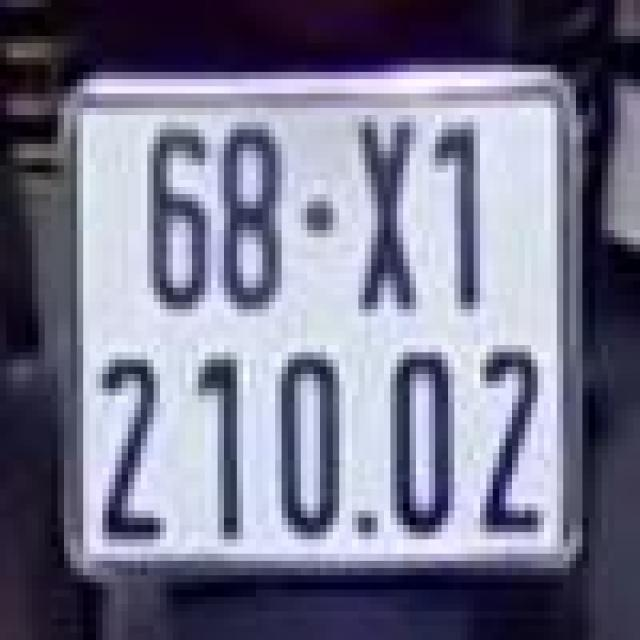0: (262, 338, 352, 546), (374, 334, 464, 536)
1: (182, 349, 253, 557), (432, 119, 496, 312)
2: (474, 341, 563, 543), (92, 349, 170, 557)
6: (138, 111, 215, 320)
8: (214, 115, 292, 316)
X: (339, 108, 429, 316)
